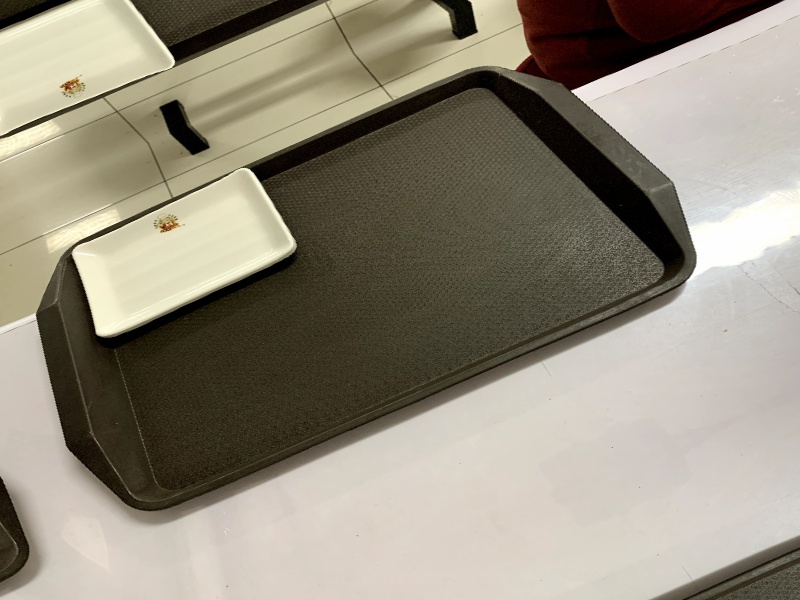dish4: (31, 156, 323, 352)
